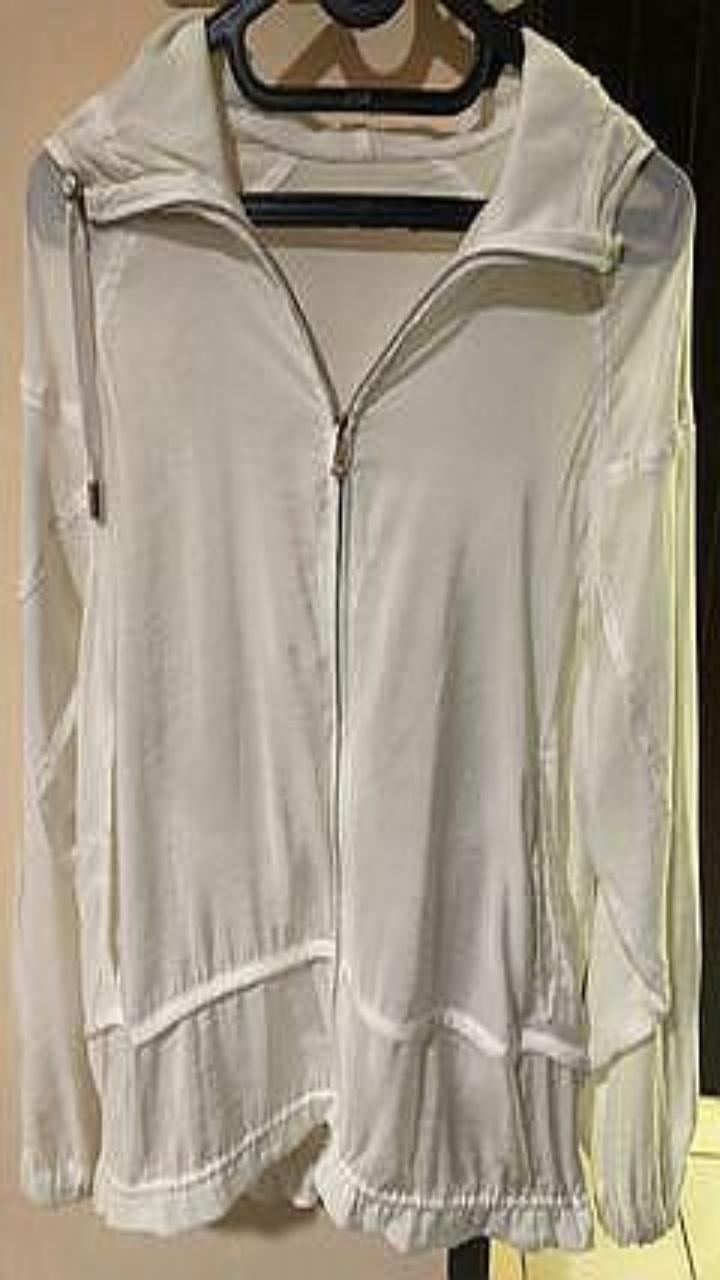Sports_Jacket: (14, 9, 700, 1251)
